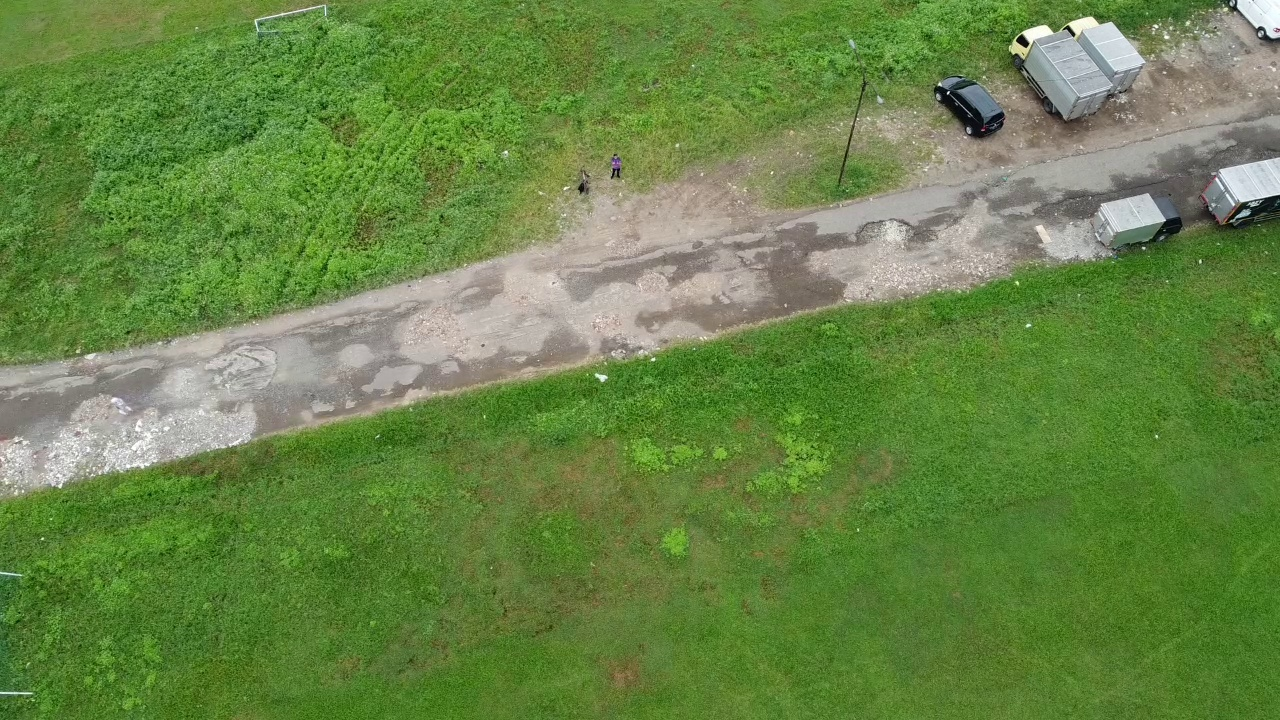mobil: (925, 67, 1014, 144)
